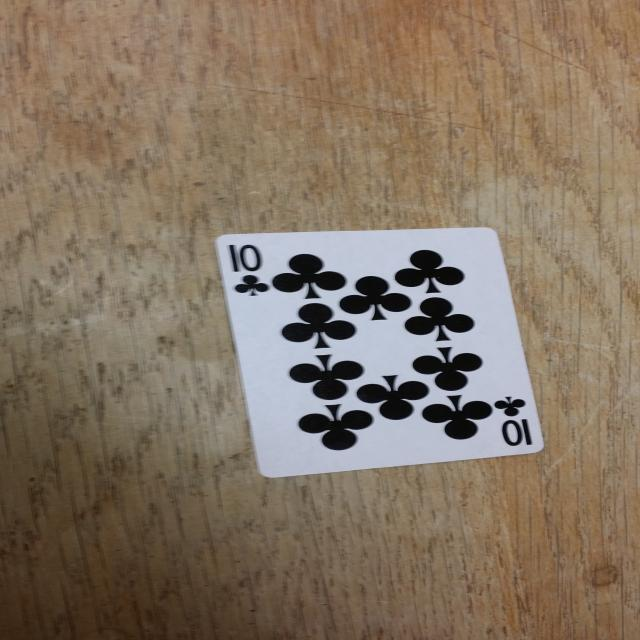10c: (482, 391, 545, 455), (217, 238, 275, 304)
